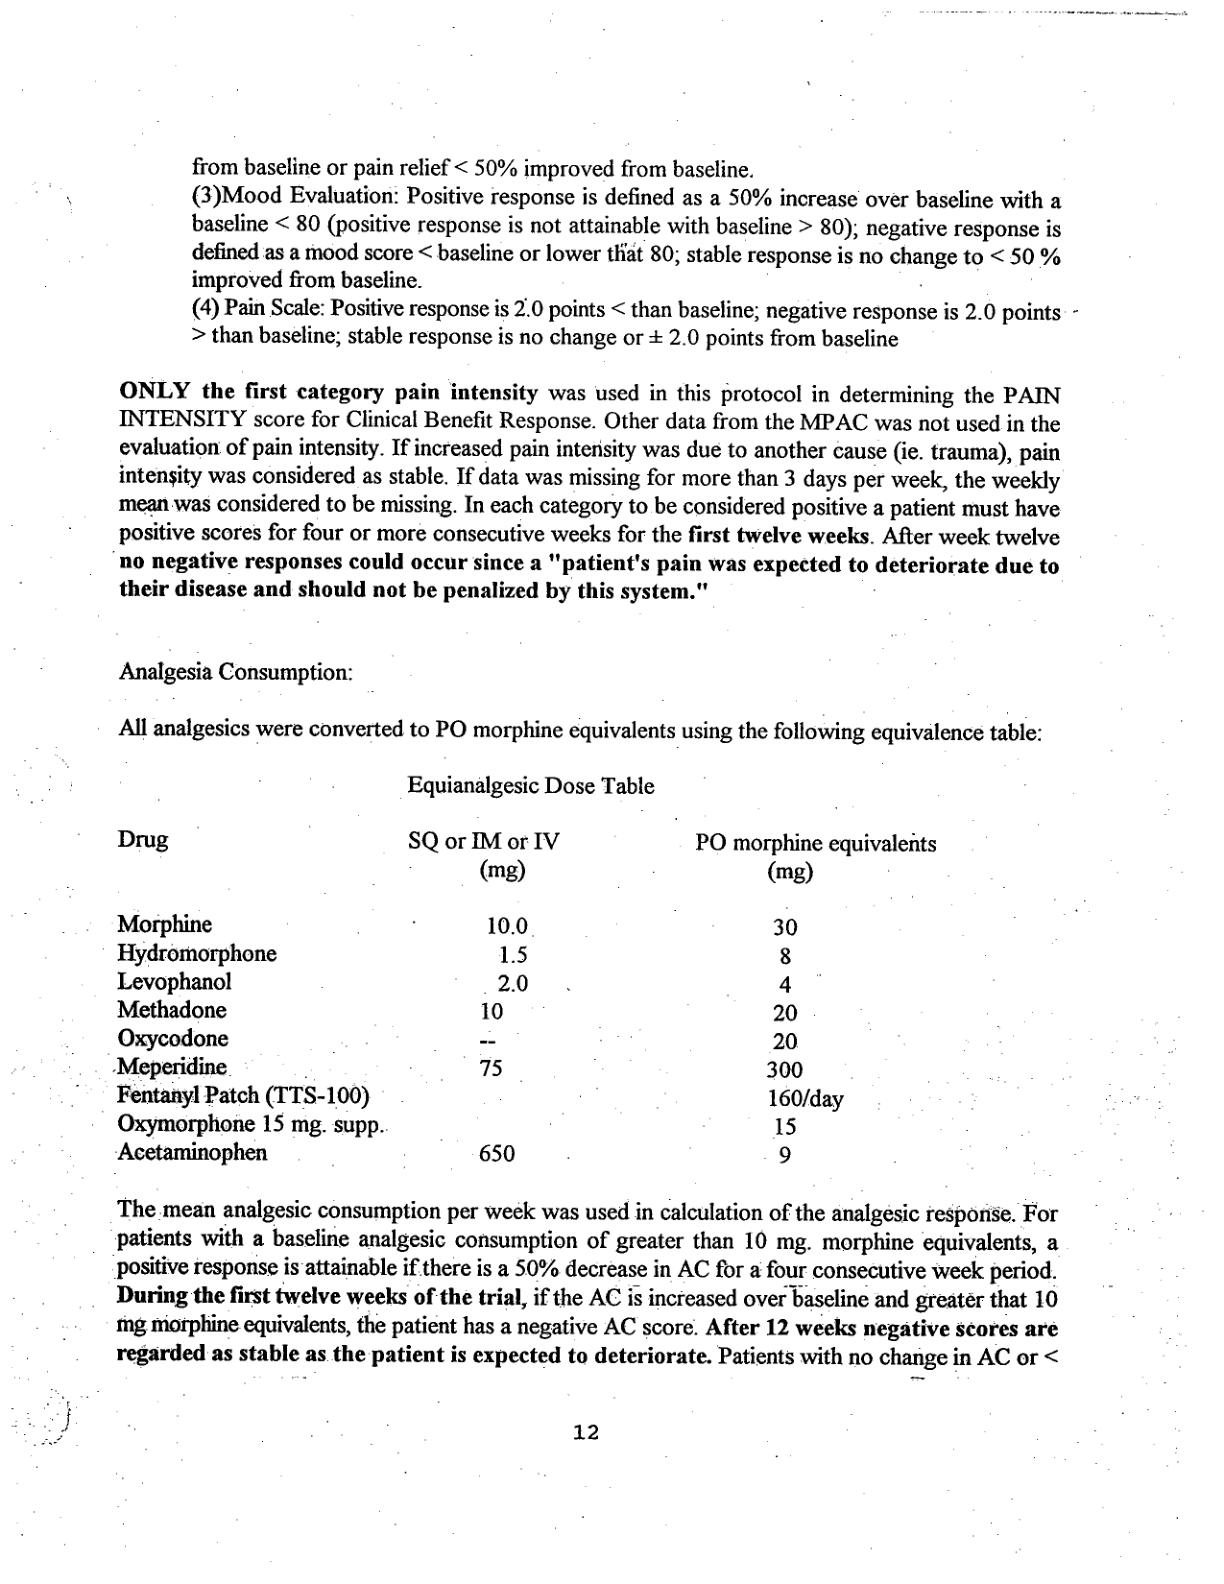nolines: (113, 824, 939, 1167)
